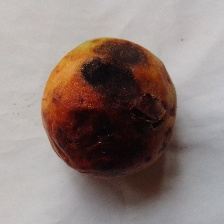guava: (6, 34, 184, 218)
